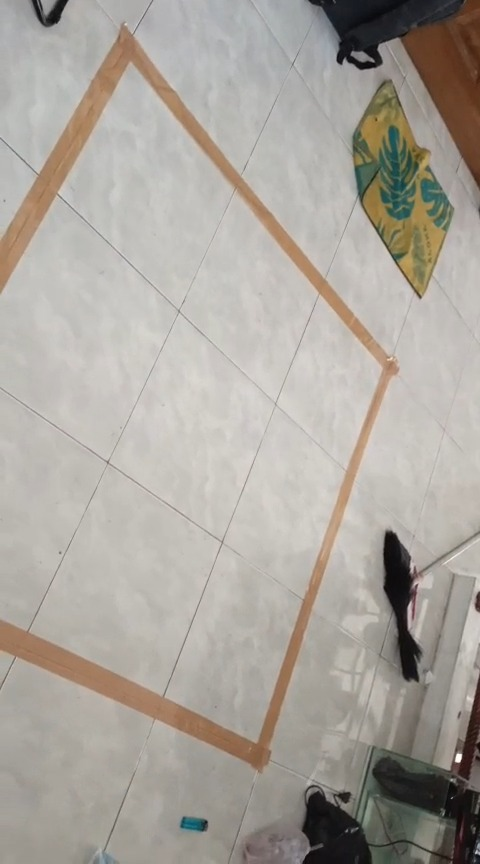floor marking: (0, 25, 397, 770)
